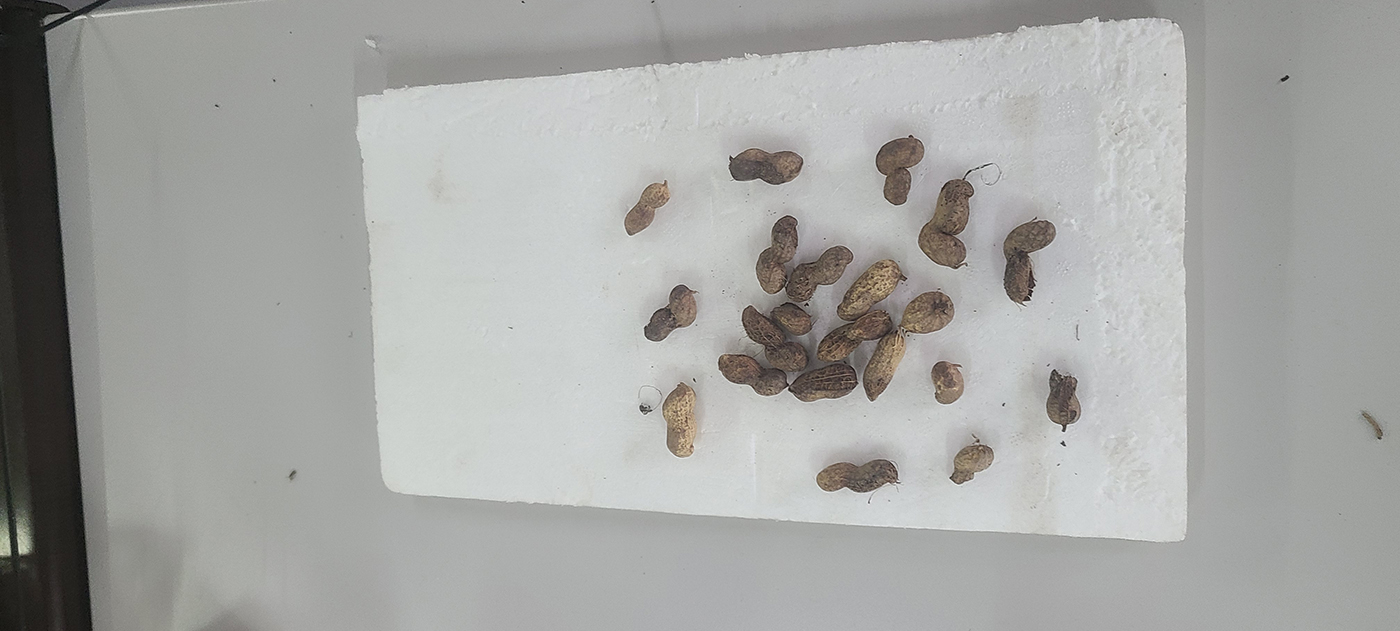l: (918, 178, 974, 269), (1002, 220, 1056, 305), (742, 305, 807, 372), (836, 260, 901, 321), (817, 310, 892, 362), (785, 245, 853, 302), (756, 215, 799, 294), (644, 284, 697, 342), (863, 332, 906, 402), (718, 354, 788, 395), (788, 362, 858, 403), (814, 459, 898, 492), (728, 148, 804, 184), (662, 382, 697, 458), (623, 181, 670, 236), (900, 291, 955, 334), (1045, 368, 1081, 425), (948, 444, 994, 485), (876, 136, 925, 173), (930, 361, 965, 404), (772, 302, 812, 336), (883, 168, 911, 206)
